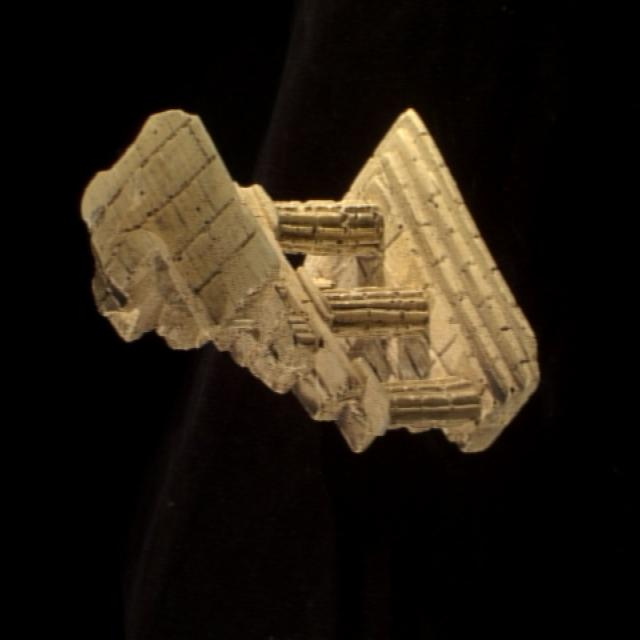Instance-Segmentation: (82, 109, 538, 451)
